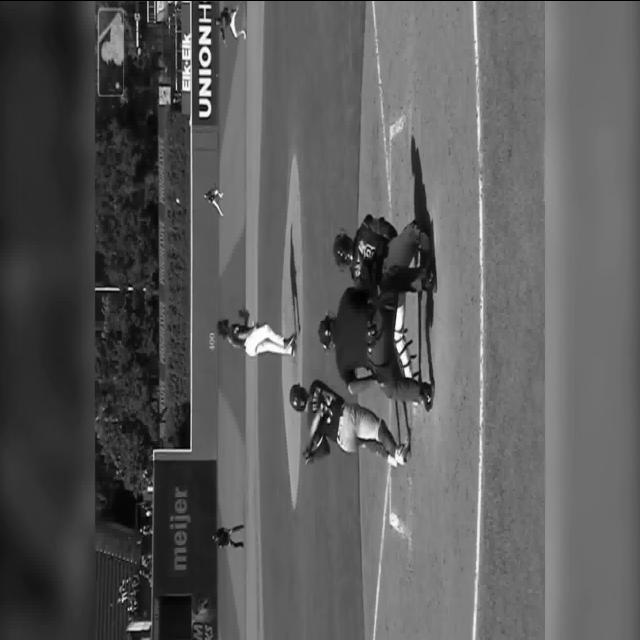baseball: (176, 197, 180, 203)
baseball_glove: (238, 307, 250, 325)
shoe: (394, 435, 410, 465), (420, 382, 434, 412), (422, 268, 436, 292), (418, 230, 431, 252), (283, 333, 295, 349), (291, 339, 296, 356)
